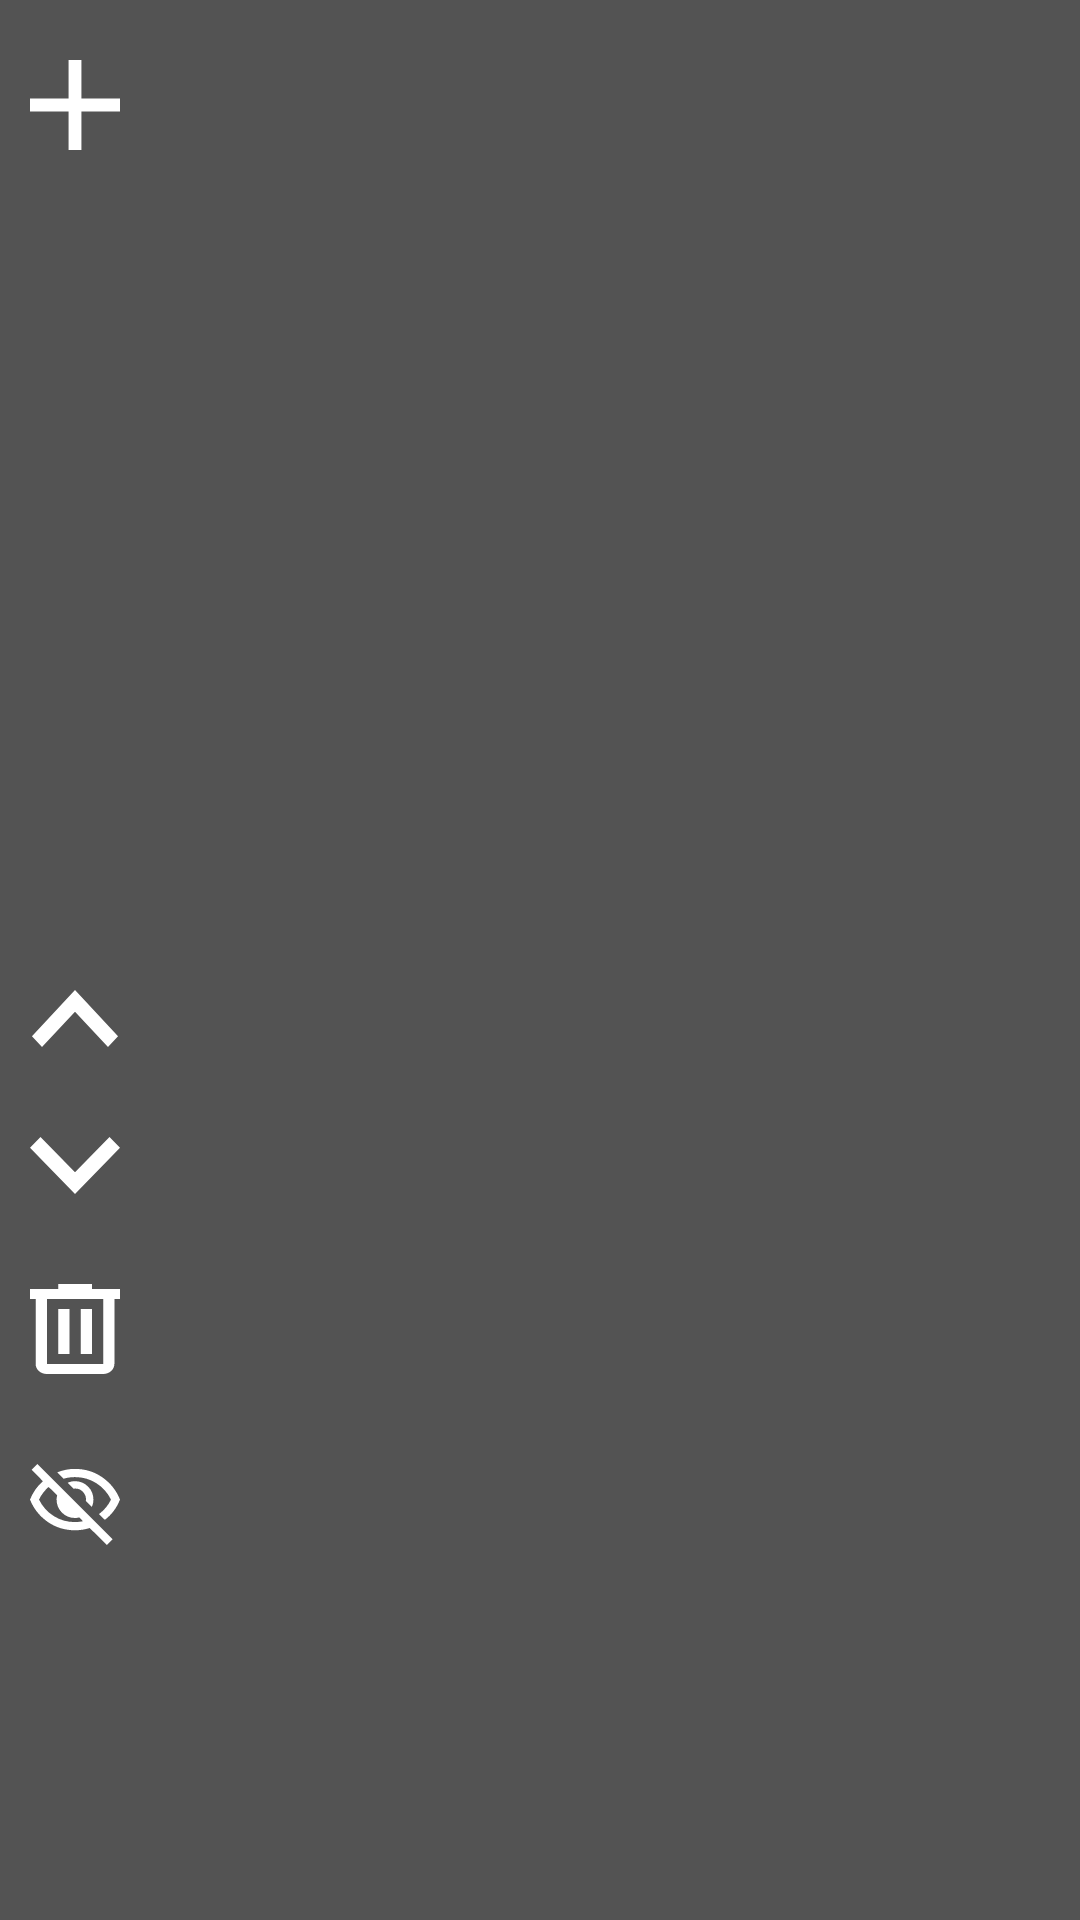

Icon bounding boxes for this 1080*1920 phone screenshot, format (x1, y1, x2, y2):
delete: (30, 1284, 120, 1374)
